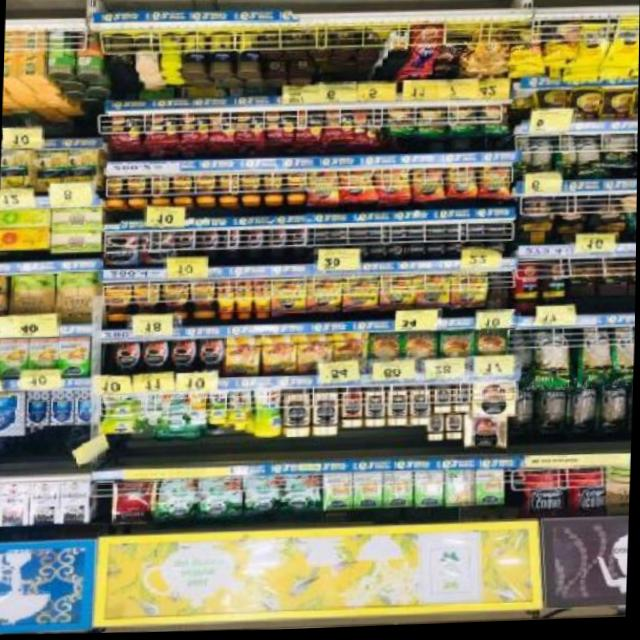Coffee: (224, 336, 261, 377), (262, 335, 297, 378), (298, 336, 333, 378), (284, 390, 312, 439), (333, 334, 368, 373), (381, 277, 417, 312), (272, 281, 306, 317), (313, 391, 339, 437), (454, 276, 487, 310), (344, 281, 379, 313), (133, 283, 163, 320), (416, 277, 450, 309), (105, 285, 134, 322), (162, 282, 191, 319), (309, 281, 342, 313), (375, 173, 409, 203), (143, 234, 177, 264), (106, 234, 137, 266), (412, 173, 444, 203), (113, 343, 141, 377), (309, 175, 338, 207), (141, 341, 169, 374), (199, 338, 225, 373), (342, 173, 372, 203), (481, 170, 511, 200), (172, 339, 199, 372), (388, 389, 410, 429), (191, 283, 216, 317), (365, 389, 386, 429), (449, 171, 477, 200), (410, 390, 431, 428), (216, 281, 235, 321), (253, 282, 270, 321), (236, 282, 253, 320), (285, 175, 307, 203), (149, 176, 169, 205), (433, 387, 453, 416), (199, 233, 221, 259), (127, 177, 147, 205), (242, 175, 262, 203), (219, 176, 240, 202), (195, 176, 215, 203), (264, 174, 282, 202), (173, 178, 193, 203), (221, 233, 240, 259), (106, 177, 123, 206), (289, 231, 307, 258), (429, 416, 446, 444), (446, 415, 463, 443), (245, 233, 264, 258), (178, 233, 197, 258), (455, 388, 473, 414), (268, 232, 286, 258), (350, 231, 370, 243), (449, 246, 466, 259), (409, 227, 426, 240), (429, 246, 447, 258), (489, 245, 507, 257), (389, 230, 407, 242), (331, 232, 347, 245), (409, 247, 426, 259), (450, 228, 467, 240), (428, 229, 448, 239), (314, 232, 328, 245), (487, 228, 507, 237), (370, 249, 386, 260), (389, 248, 403, 260), (469, 227, 484, 238), (370, 231, 385, 241), (450, 388, 451, 390)
